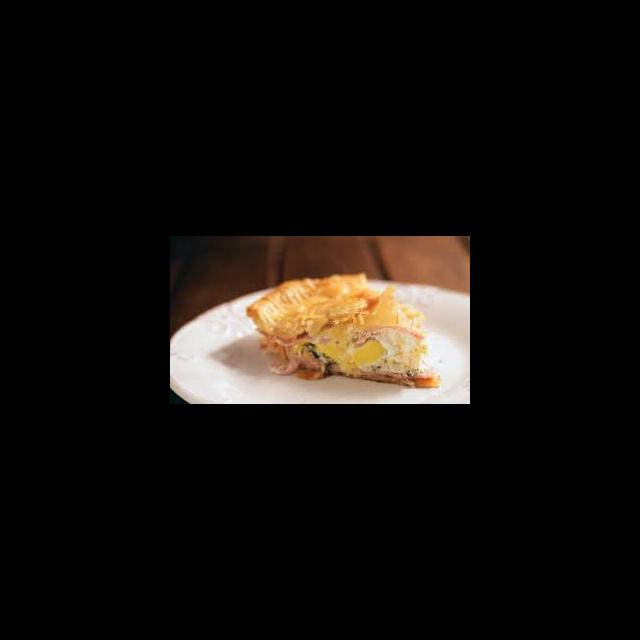food_waste: (257, 274, 453, 400)
